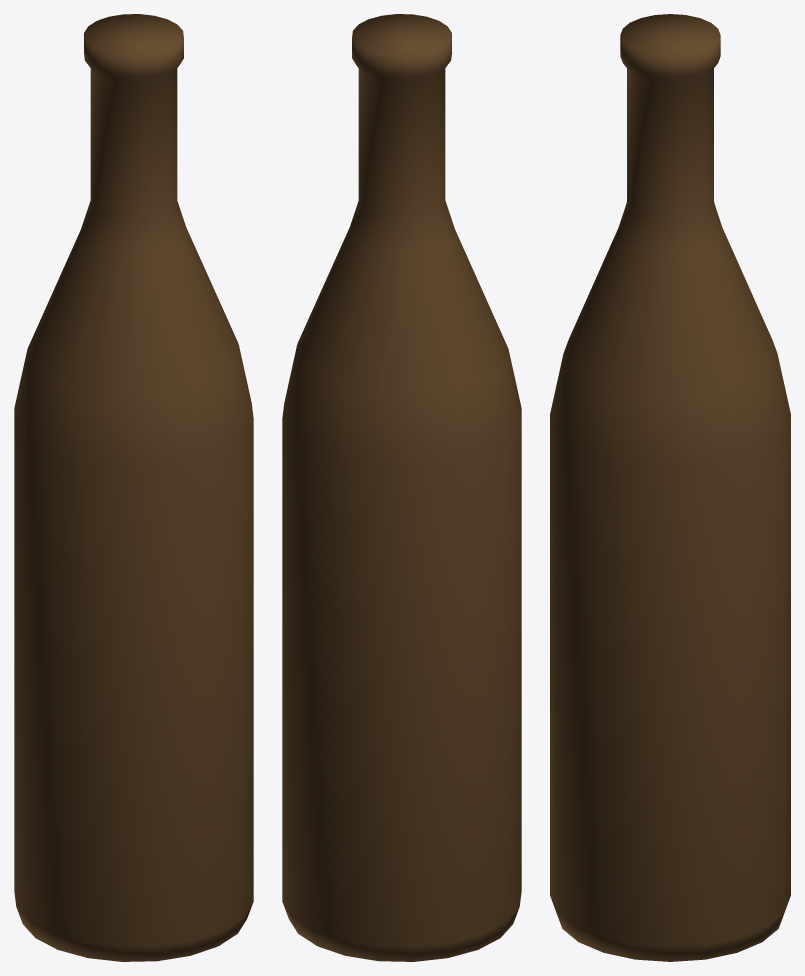
File: garrafa.glb
3 renders of one model, left to right at view 1: azimuth 30°, elevation 25°; view 2: azimuth 150°, elevation 25°; view 3: azimuth 270°, elevation 25°, orthographic.
Parts seen in each view (by area): view 1: Garrafa; view 2: Garrafa; view 3: Garrafa.
Boxes of the visible parts, x1,y1,x2,y2 form: Garrafa: [14, 14, 253, 961]; Garrafa: [282, 14, 521, 961]; Garrafa: [550, 14, 790, 961].
Size of the model in its own units: 0.072 by 0.29 by 0.072.
